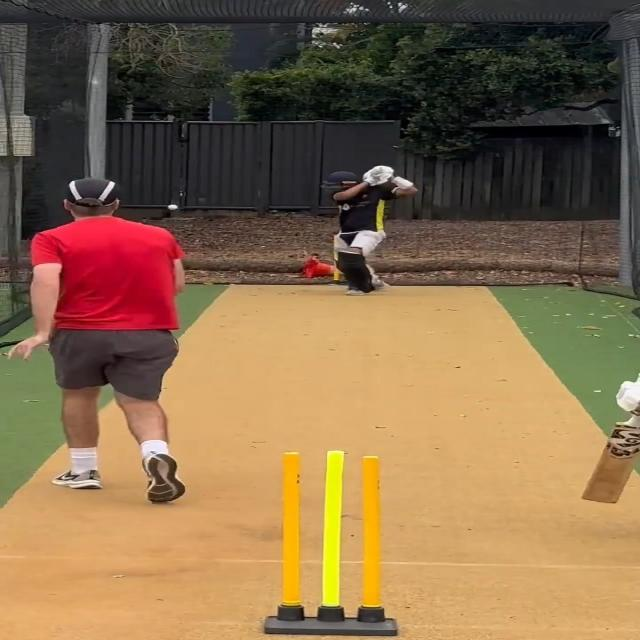ball: (167, 204, 179, 211)
stump: (265, 450, 399, 636)
